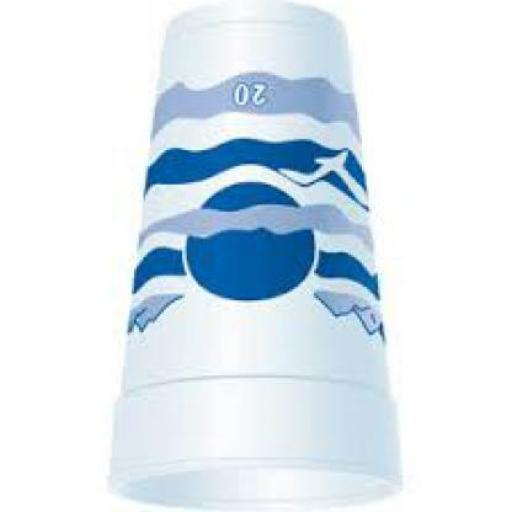paper: (116, 2, 404, 511)
